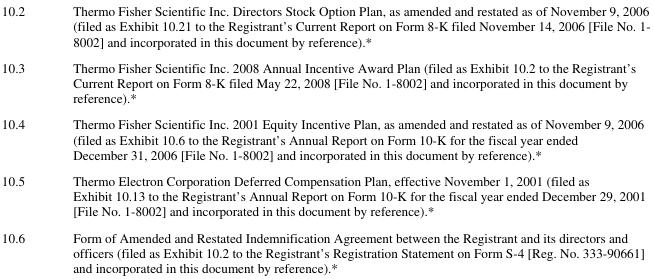table: (0, 1, 649, 275)
table column: (48, 1, 649, 275), (0, 1, 48, 275)
table row: (0, 53, 649, 110), (0, 166, 649, 223), (0, 110, 649, 166), (0, 1, 649, 53), (0, 223, 649, 275)
